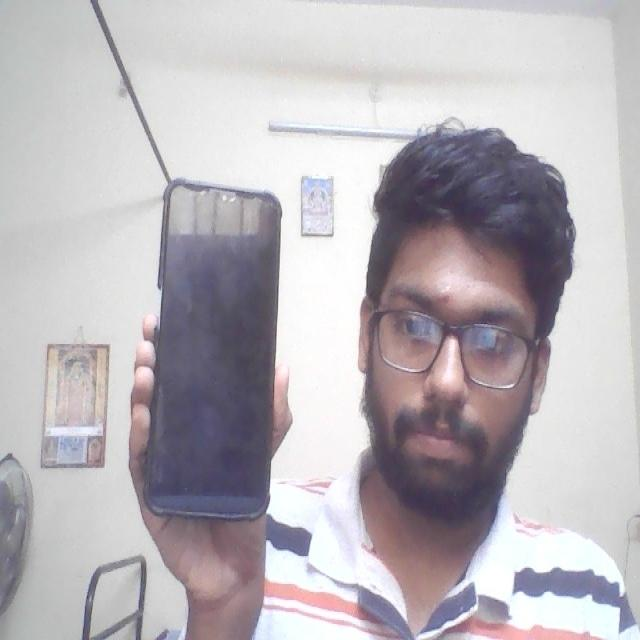Mobile: (144, 172, 280, 520)
